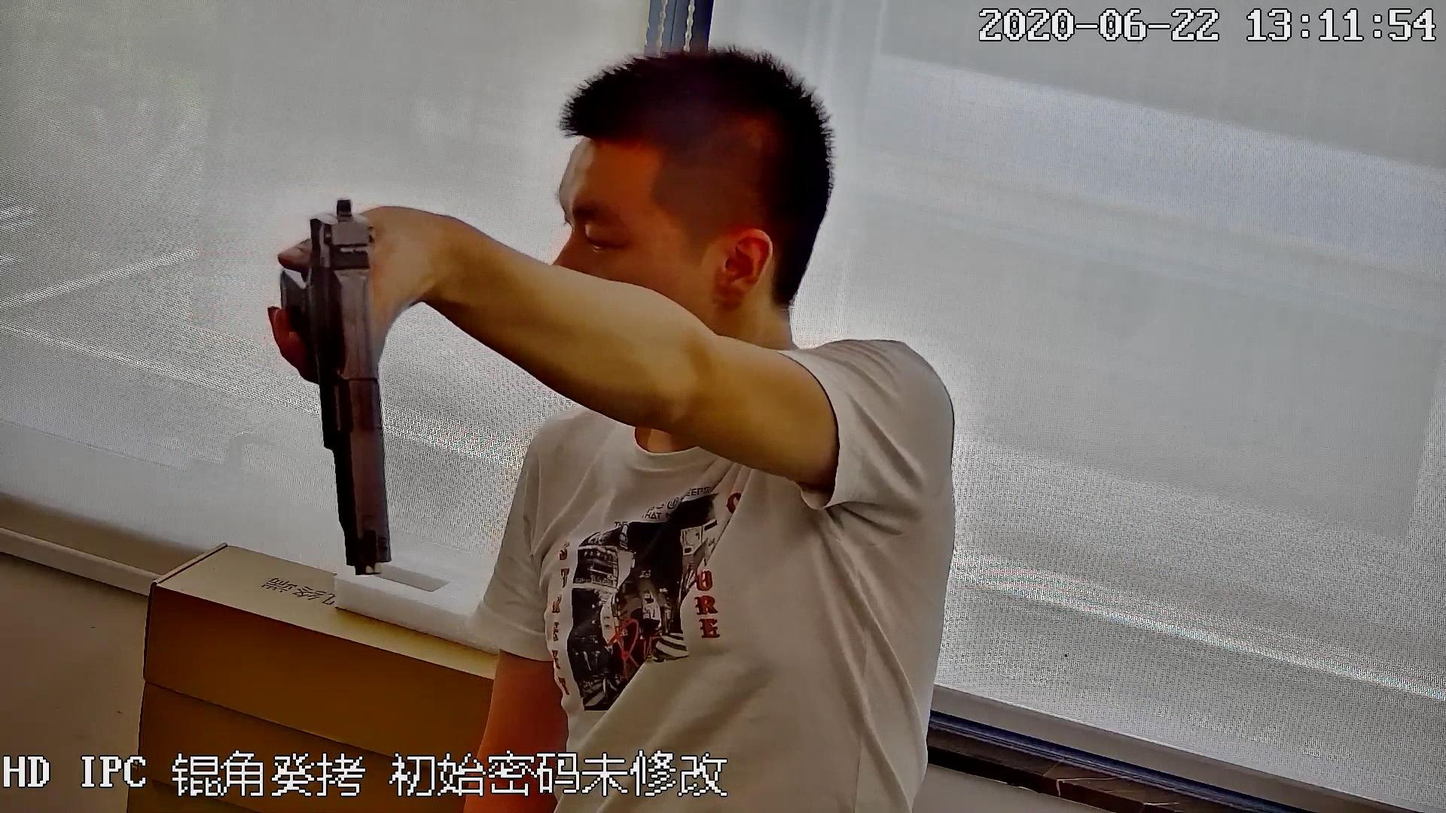gun: (255, 196, 450, 583)
